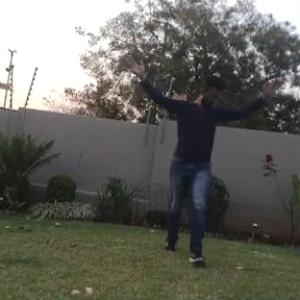takeoff: (131, 44, 299, 261)
